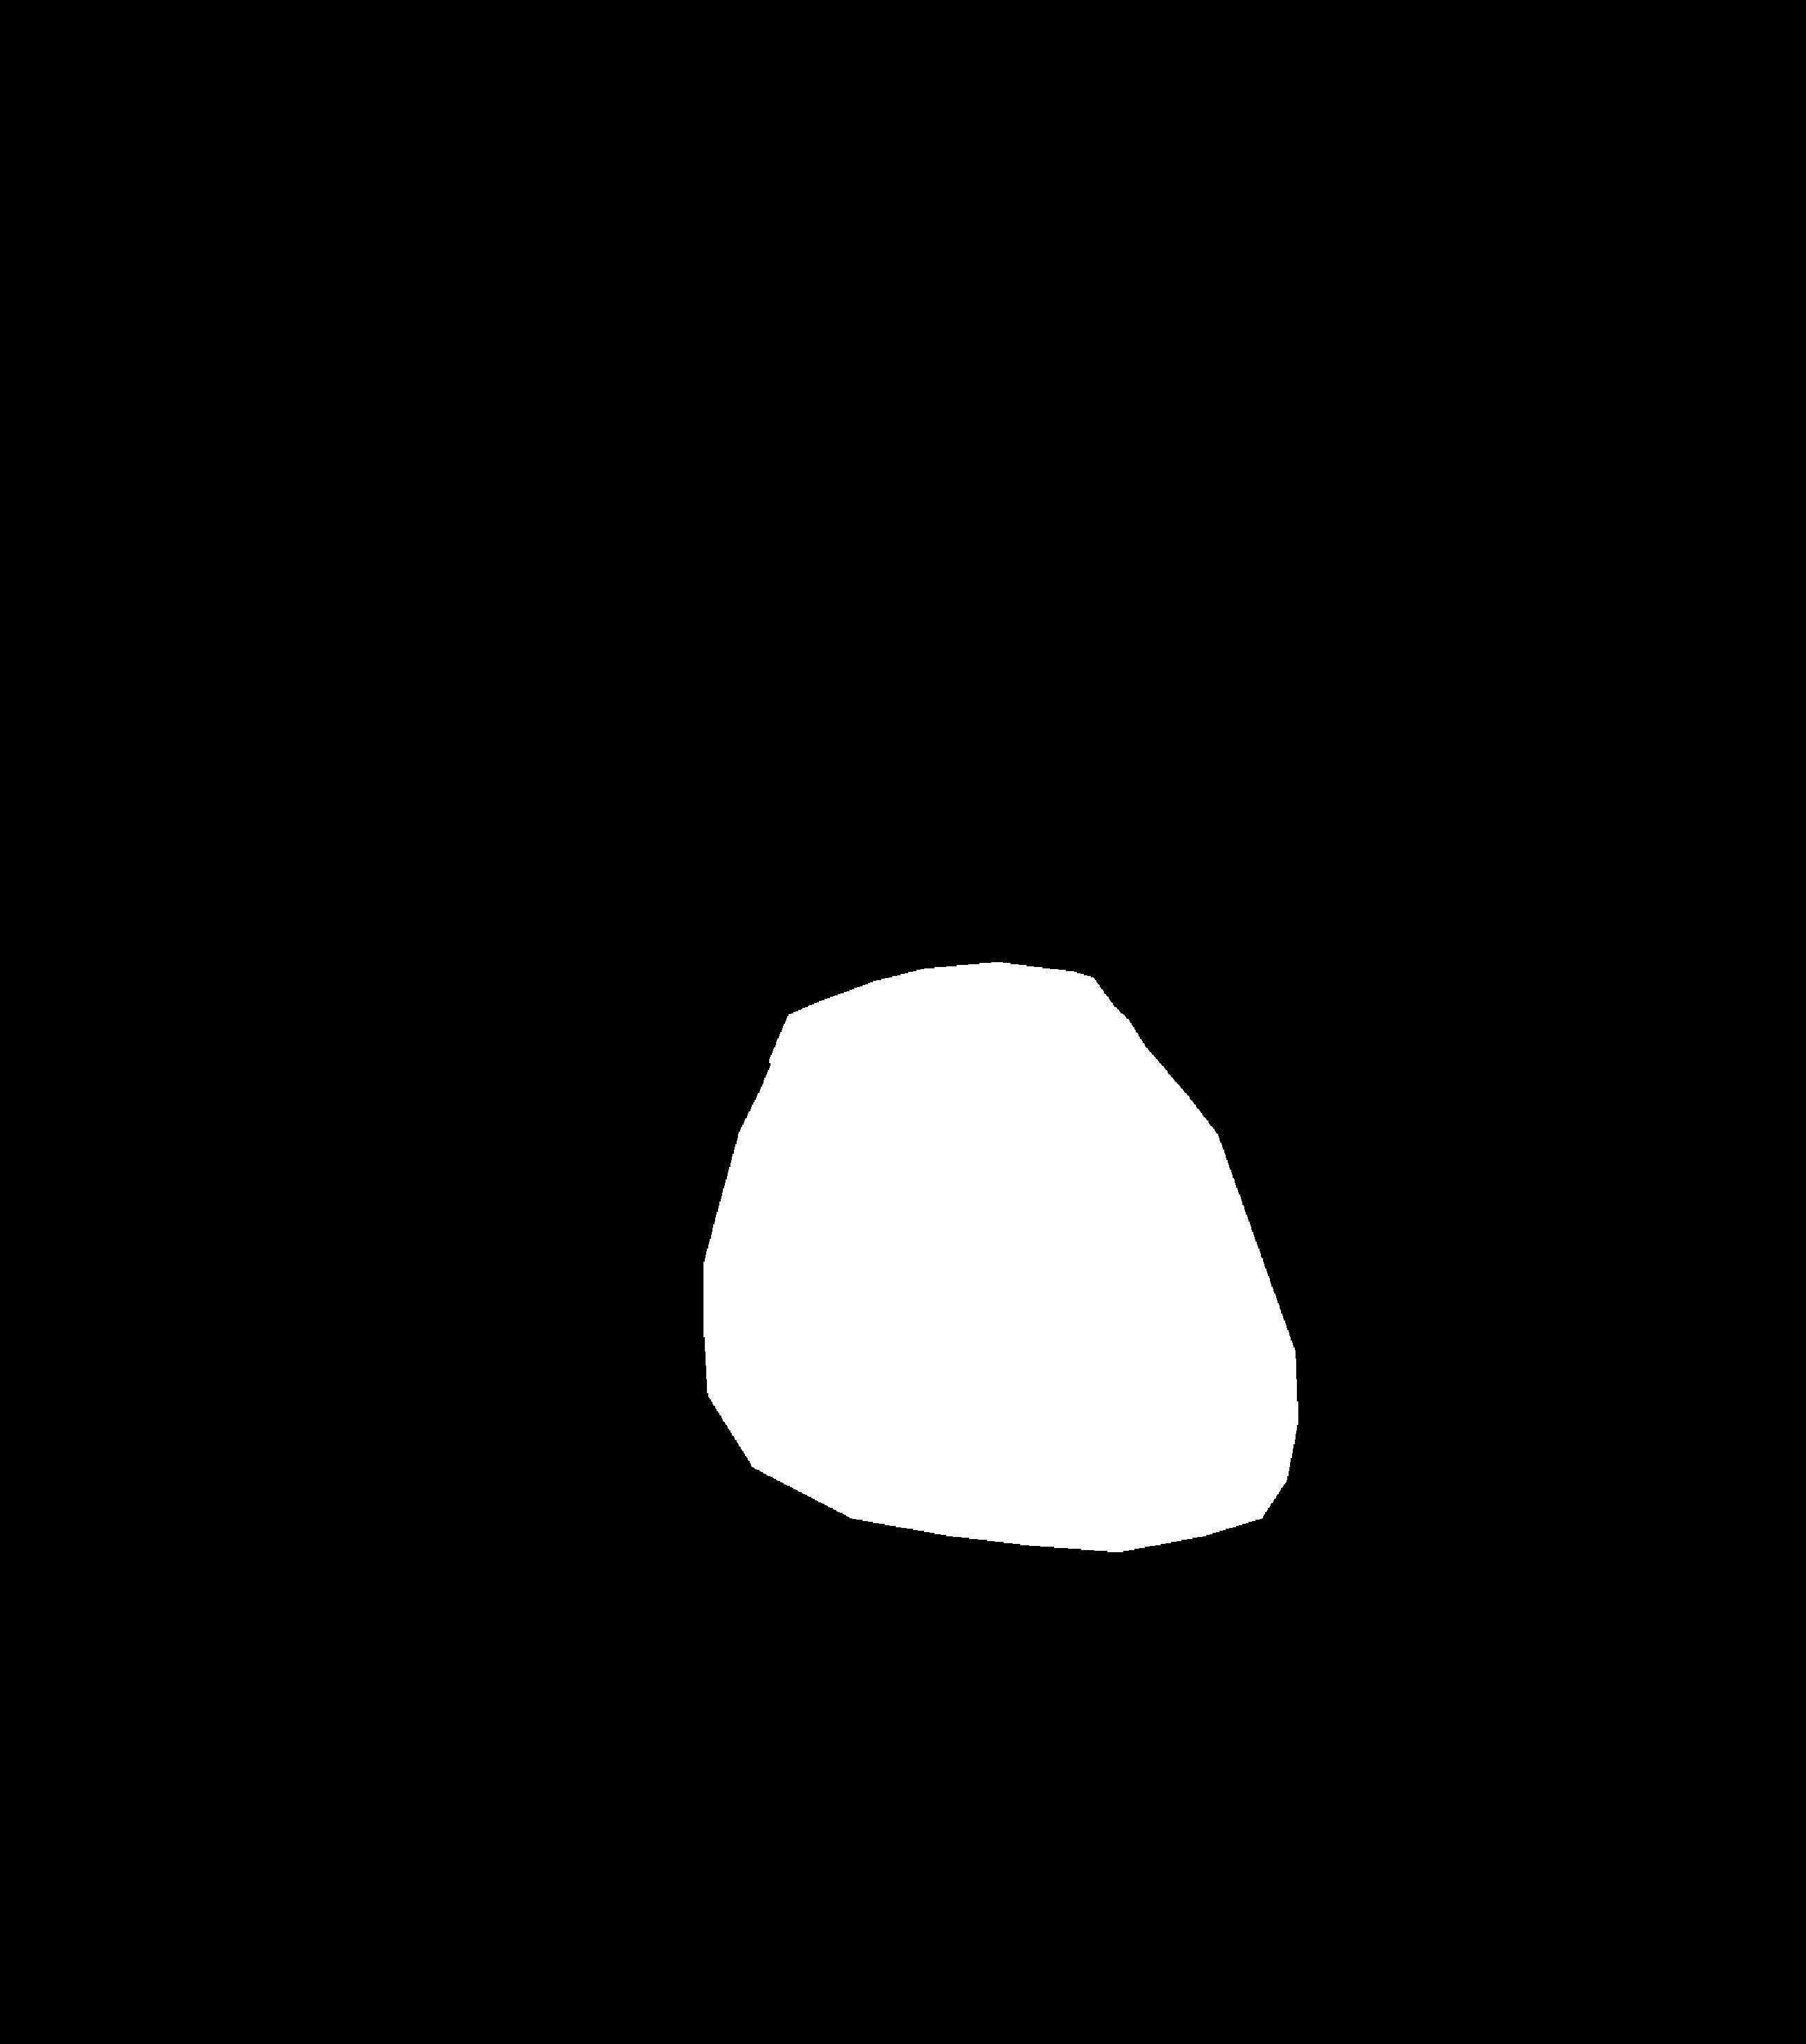heart: (704, 1046, 1300, 1565)
left_lung: (199, 244, 828, 1682)
right_lung: (1009, 282, 1606, 1715)
